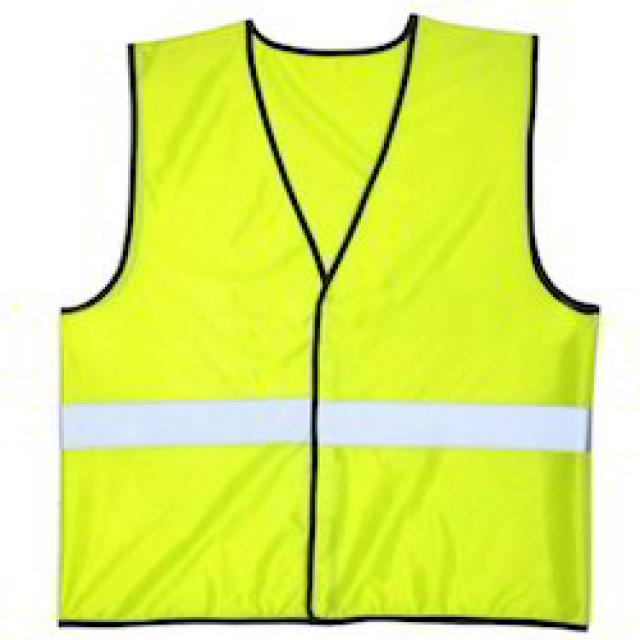Reflective-Jacket: (10, 5, 640, 640)
